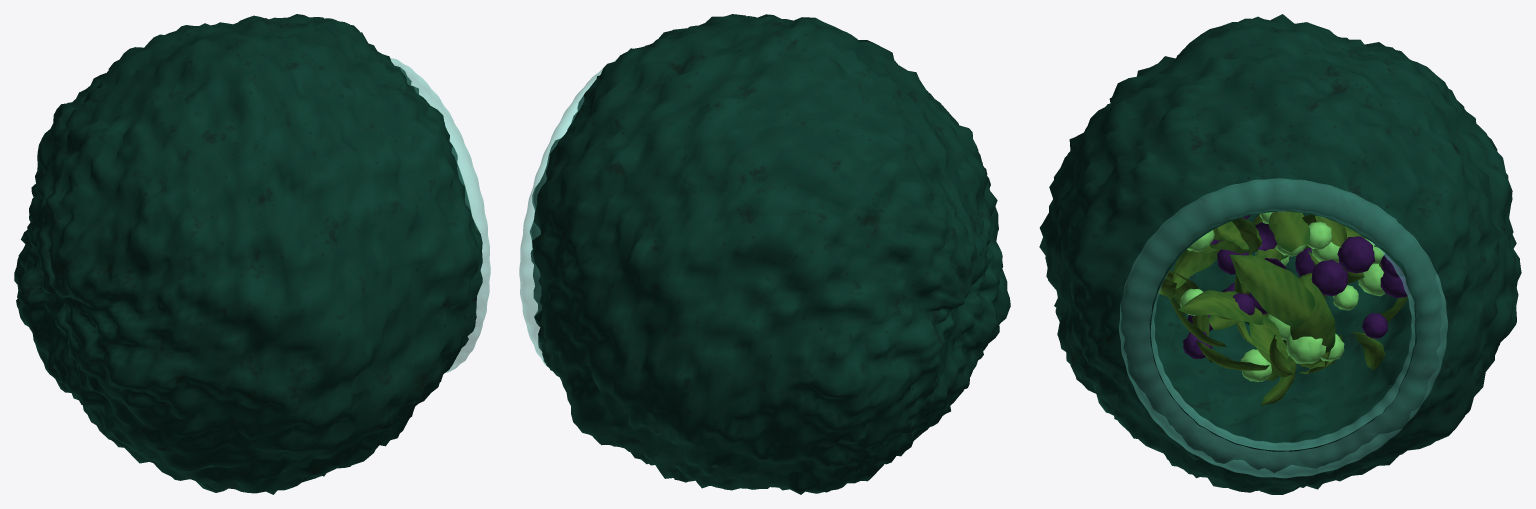
The model's file is micela-detallada.glb.
3 renders of one model, left to right at view 1: azimuth 30°, elevation 25°; view 2: azimuth 150°, elevation 25°; view 3: azimuth 270°, elevation 25°, orthographic. The views are drawn at different scales.
Parts seen in each view (by area): view 1: ConchaGranulada, RebordeCristal; view 2: ConchaGranulada, RebordeCristal; view 3: ConchaGranulada, RebordeCristal, Hojas, Baya_Madura, Baya_Inmadura.
Boxes of the visible parts, <box> form: ConchaGranulada: <box>14,14,482,494</box>; RebordeCristal: <box>390,58,490,372</box>; ConchaGranulada: <box>529,14,1010,494</box>; RebordeCristal: <box>519,59,616,365</box>; ConchaGranulada: <box>1039,14,1521,494</box>; RebordeCristal: <box>1119,178,1448,478</box>; Hojas: <box>1158,211,1407,406</box>; Baya_Madura: <box>1183,215,1410,358</box>; Baya_Inmadura: <box>1180,212,1385,381</box>.
Size of the model in its own units: 1.9 by 2.15 by 2.15.
Materials: 5 (4 with a texture image).
